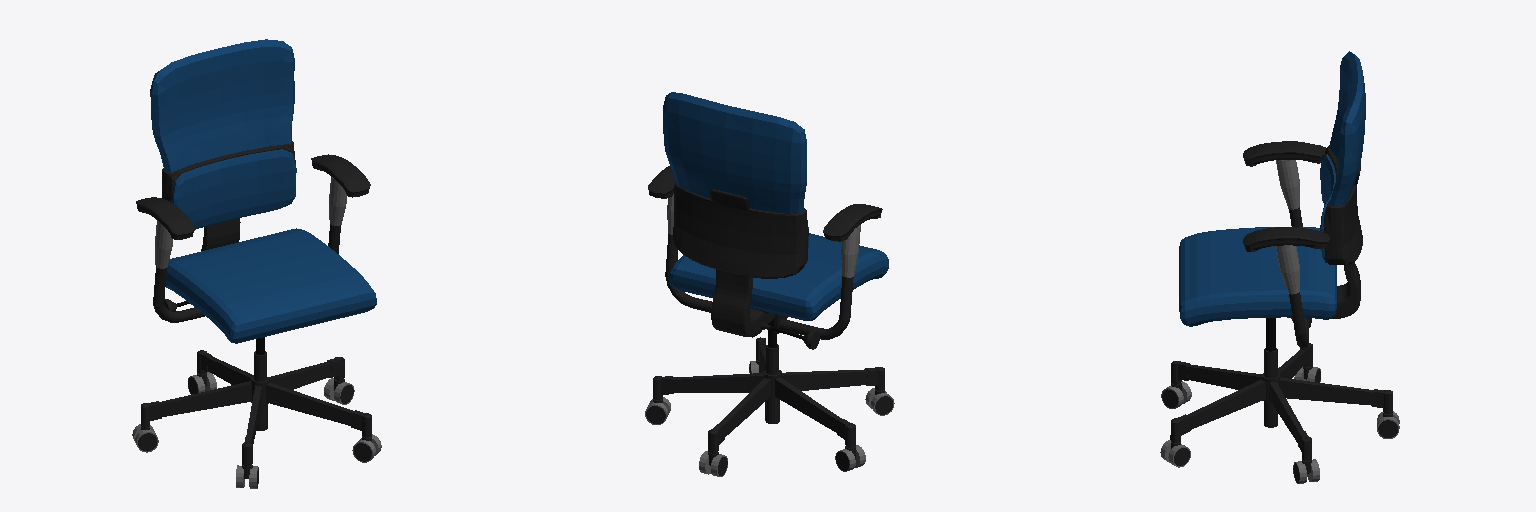
File: office_chair.obj
3 renders of one model, left to right at view 1: azimuth 30°, elevation 25°; view 2: azimuth 150°, elevation 25°; view 3: azimuth 270°, elevation 25°, orthographic.
Visible parts, largest first — view 1: sillaOfi_respaldo.001_Cube.006, sillaOfi_ruedas.001_Cube.010, sillaOfi_soporte.001_Cube.011; view 2: sillaOfi_respaldo.001_Cube.006, sillaOfi_ruedas.001_Cube.010, sillaOfi_soporte.001_Cube.011; view 3: sillaOfi_respaldo.001_Cube.006, sillaOfi_ruedas.001_Cube.010, sillaOfi_soporte.001_Cube.011.
Boxes of the visible parts, <box> form: sillaOfi_respaldo.001_Cube.006: <box>136,39,376,343</box>; sillaOfi_ruedas.001_Cube.010: <box>132,350,381,488</box>; sillaOfi_soporte.001_Cube.011: <box>153,177,346,430</box>; sillaOfi_respaldo.001_Cube.006: <box>648,92,888,337</box>; sillaOfi_ruedas.001_Cube.010: <box>645,337,894,476</box>; sillaOfi_soporte.001_Cube.011: <box>665,194,860,423</box>; sillaOfi_respaldo.001_Cube.006: <box>1179,51,1365,327</box>; sillaOfi_ruedas.001_Cube.010: <box>1160,343,1399,483</box>; sillaOfi_soporte.001_Cube.011: <box>1262,160,1308,427</box>.
Bounding box in the file's own units: 64.84 × 102 × 61.76.